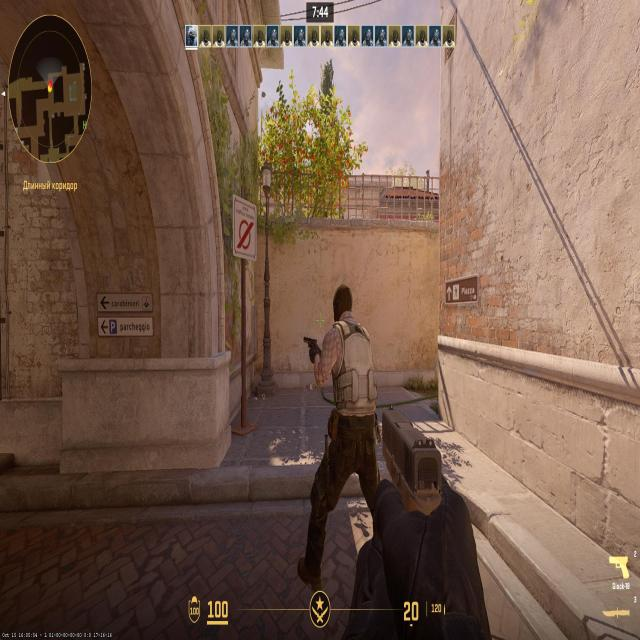T: (334, 288, 376, 471)
T_heat: (338, 299, 353, 333)
